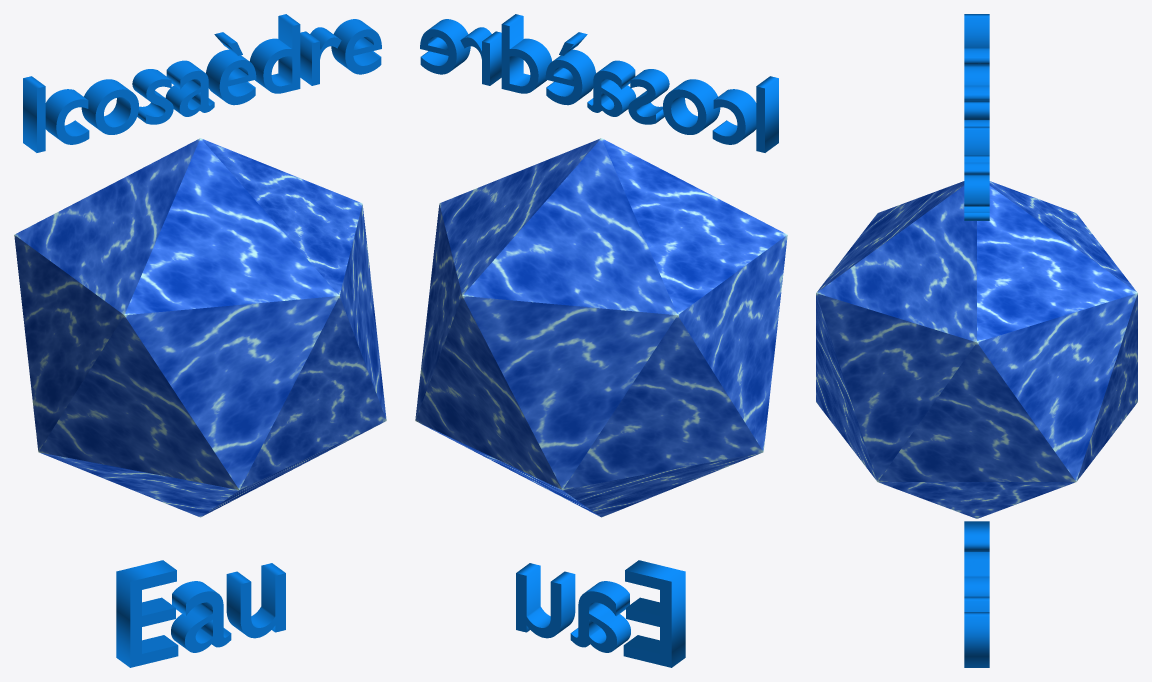
Rendered from Icosaedre.glb.
3 views of the same model, side by side, from view 1: azimuth 30°, elevation 25°; view 2: azimuth 150°, elevation 25°; view 3: azimuth 270°, elevation 25° (orthographic). The views are drawn at different scales.
Visible parts, largest first — view 1: Icosphere, Text.009, Text.004; view 2: Icosphere, Text.009, Text.004; view 3: Icosphere, Text.009, Text.004.
Boxes of the visible parts, <box> form: Icosphere: <box>14,138,386,517</box>; Text.009: <box>23,14,381,152</box>; Text.004: <box>116,560,285,667</box>; Icosphere: <box>415,138,787,517</box>; Text.009: <box>420,14,778,152</box>; Text.004: <box>516,560,685,667</box>; Icosphere: <box>816,181,1137,518</box>; Text.009: <box>964,14,989,220</box>; Text.004: <box>964,521,989,667</box>.
Bounding box in the file's own units: 2.86 × 4.77 × 2.55.
2 materials, 1 textured.
